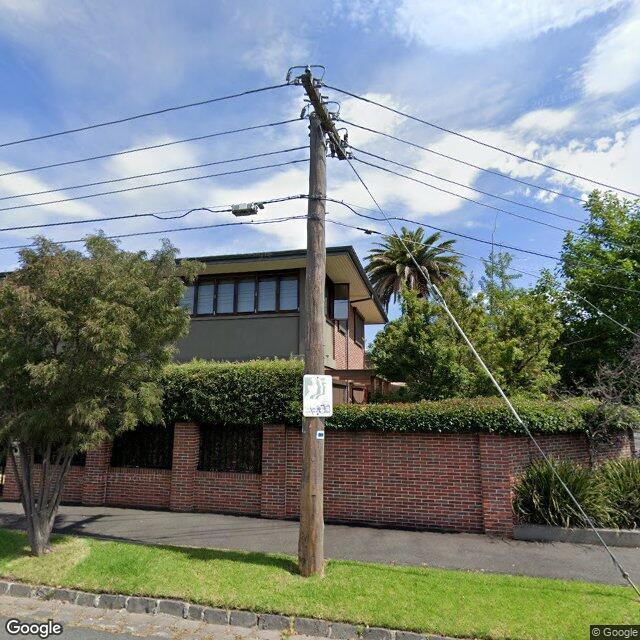crossarm: (301, 74, 346, 160)
timber-pole: (298, 113, 325, 577)
